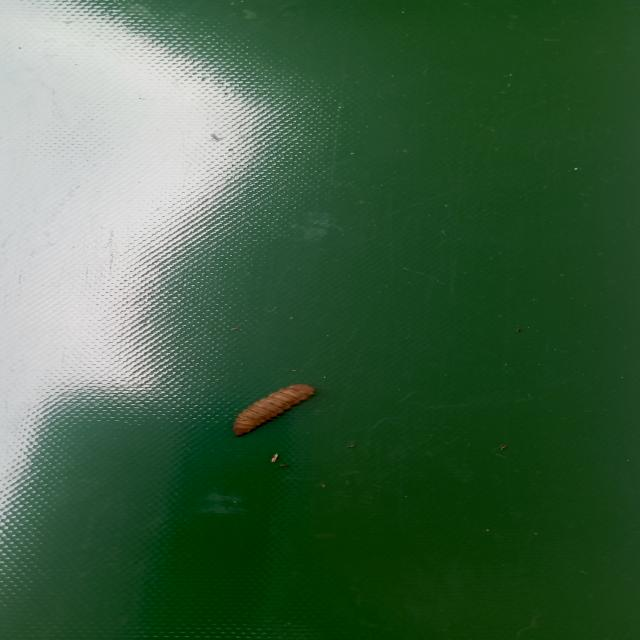Maggot: (233, 384, 315, 437)
